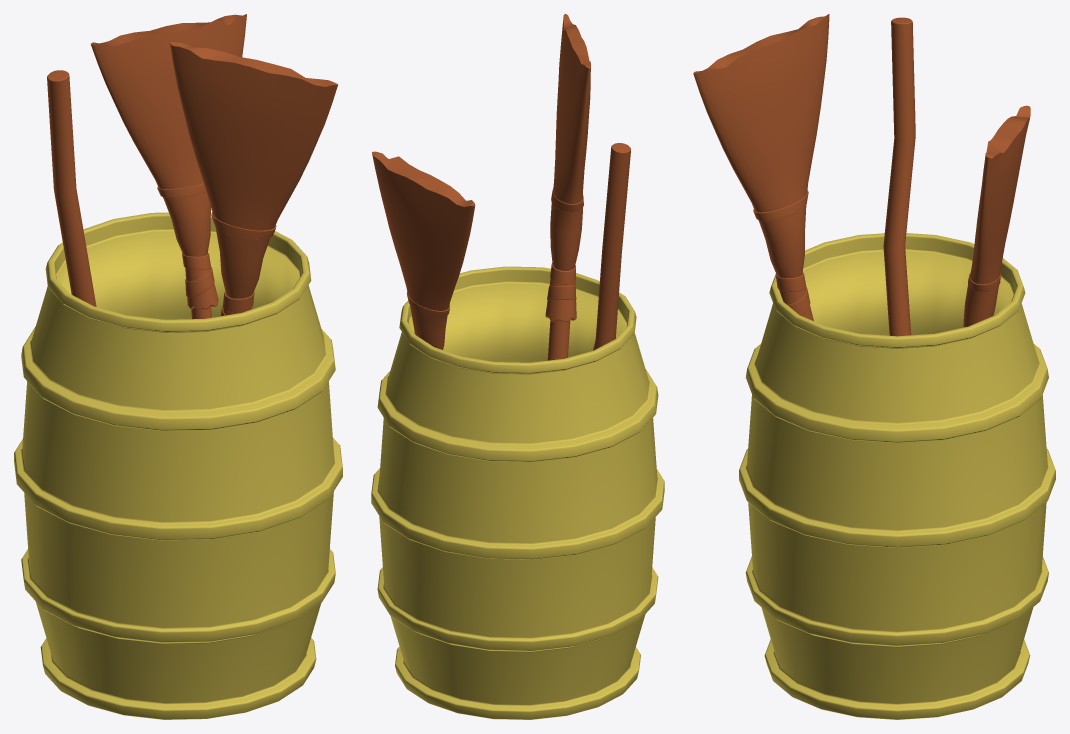
The model's file is SM_Broom_Barrel_1_01.fbx.
3 views of the same model, side by side, from view 1: azimuth 30°, elevation 25°; view 2: azimuth 150°, elevation 25°; view 3: azimuth 270°, elevation 25° (orthographic). The views are drawn at different scales.
Parts seen in each view (by area): view 1: polySurface88; view 2: polySurface88; view 3: polySurface88.
Boxes of the visible parts, x1,y1,x2,y2 form: polySurface88: (14, 14, 342, 719); polySurface88: (371, 14, 664, 719); polySurface88: (693, 14, 1055, 719).
Bounding box in the file's own units: 74.44 × 164 × 85.2.
